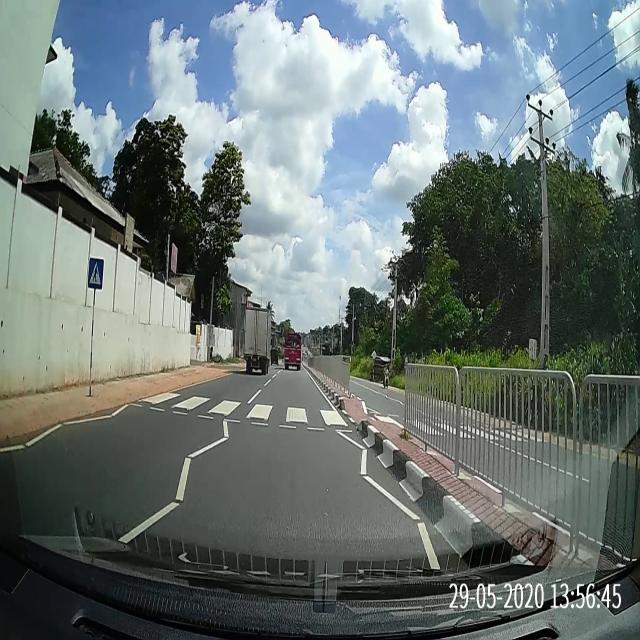Crosswalk: (121, 390, 551, 446)
